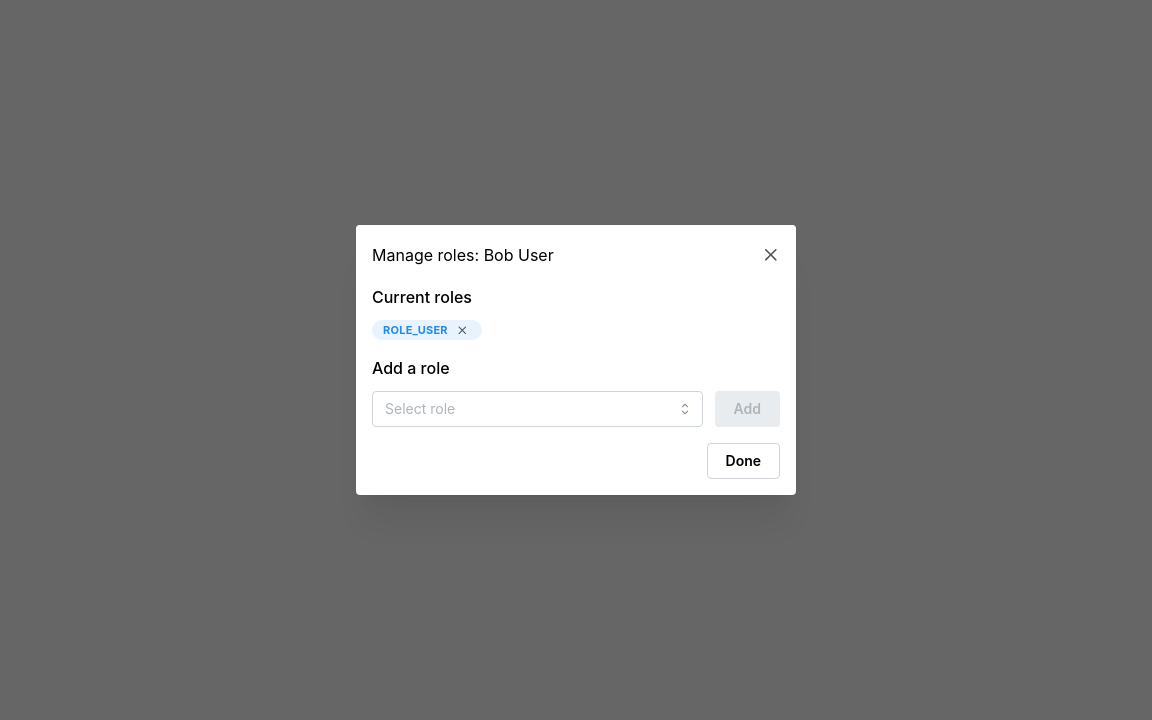
Scenario: UserRolesModal › surfaces ApiError messages from a failed remove
The width and height of the screenshot is (1152, 720).
Click the button named "remove role_user" at [462, 330], box [453,321,471,339]
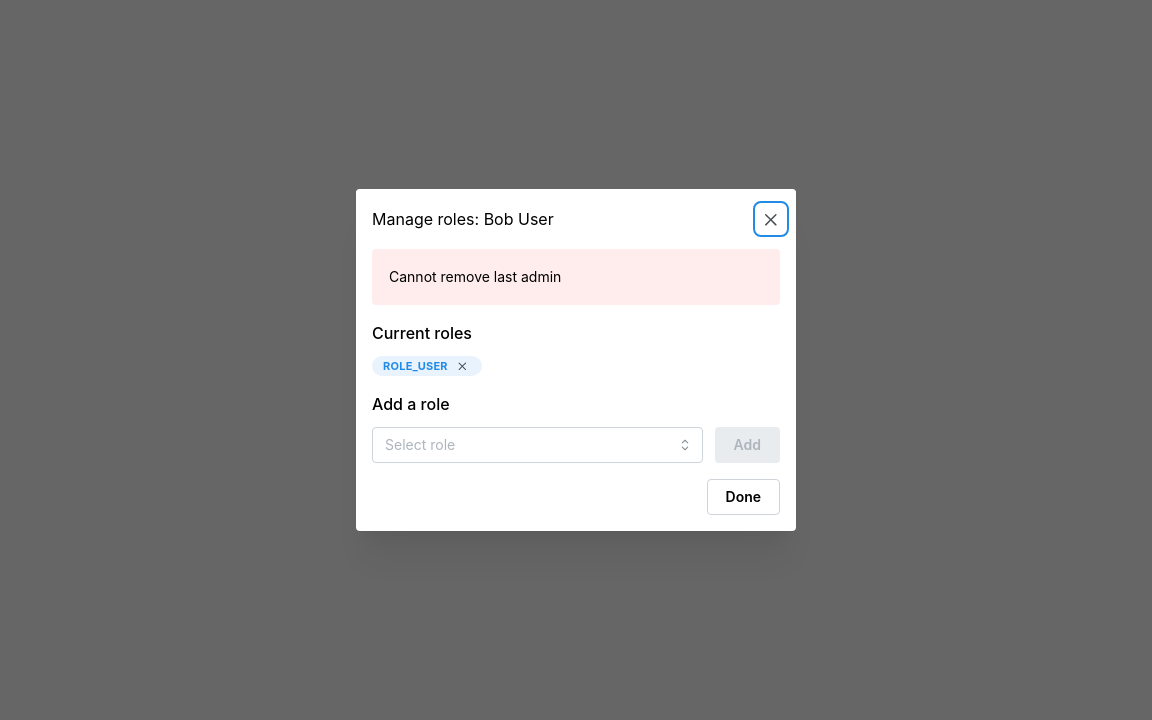
expect the text "Cannot remove last admin" is shown: met, box [389,268,561,285]
